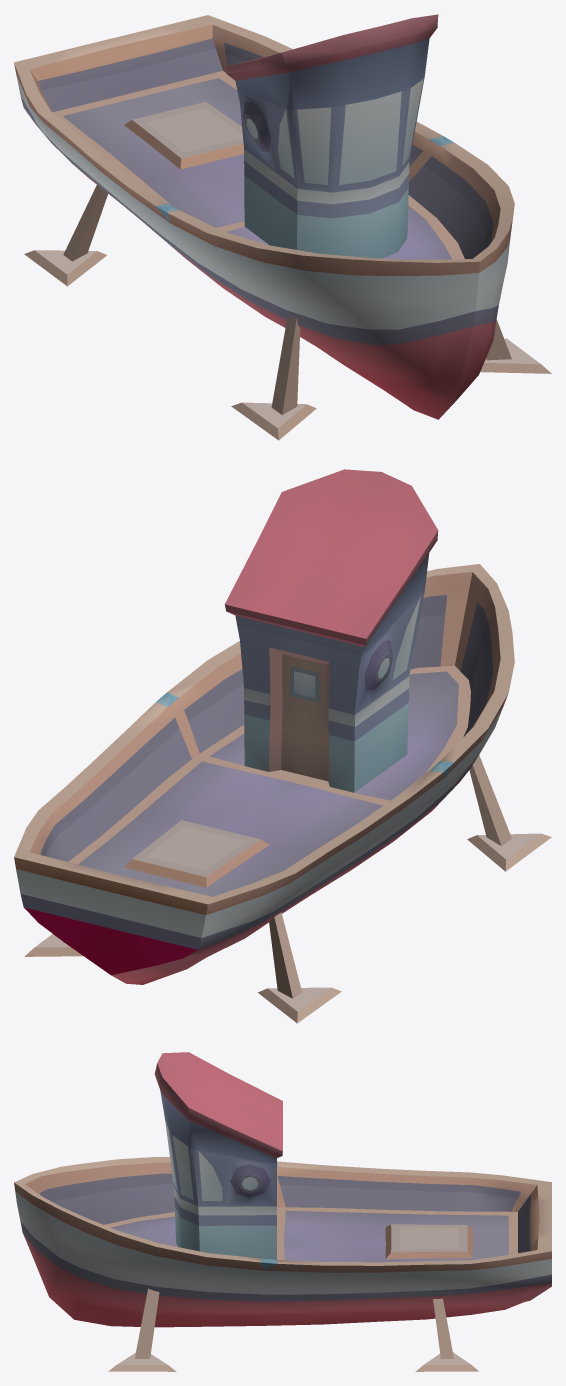
The model's file is boat.glb.
The picture shows the model from 3 angles, top to bottom: view 1: azimuth 30°, elevation 25°; view 2: azimuth 150°, elevation 25°; view 3: azimuth 270°, elevation 25°; orthographic projection. The views are drawn at different scales.
Parts seen in each view (by area): view 1: boat; view 2: boat; view 3: boat.
Part boxes in pixels (left/top/right/bottom): boat: left=14, top=14, right=551, bottom=440; boat: left=14, top=469, right=551, bottom=1023; boat: left=14, top=1052, right=551, bottom=1371.
Size of the model in its own units: 2.6 by 3.13 by 5.77.
